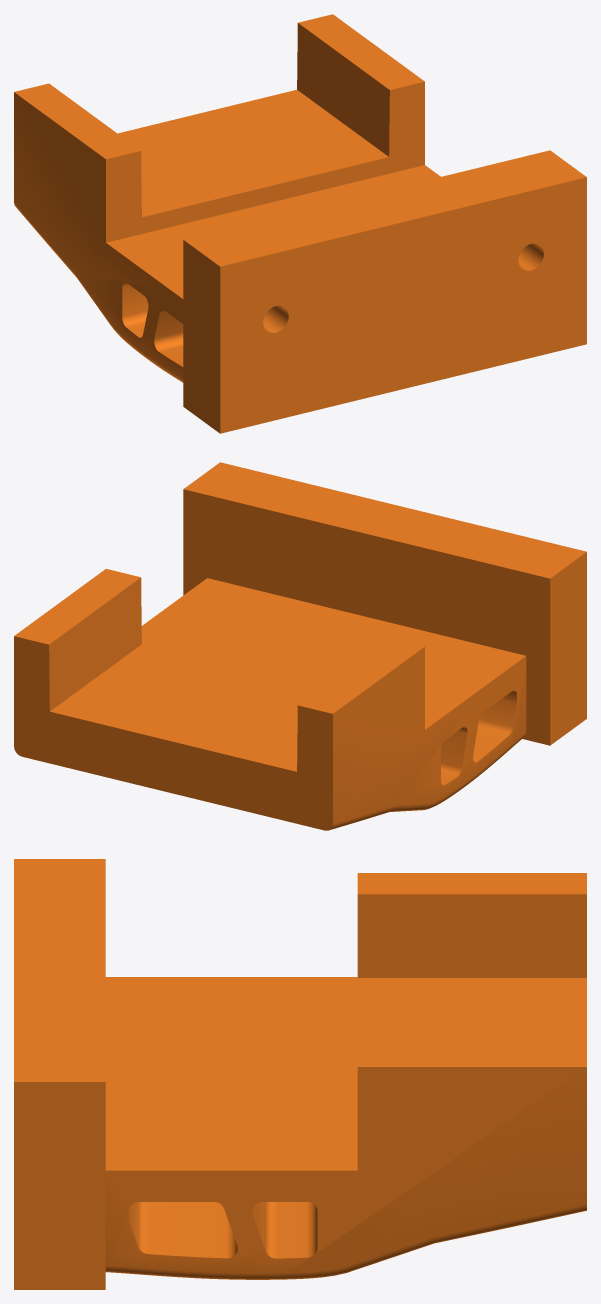
3 renders of one model, top to bottom at view 1: azimuth 30°, elevation 25°; view 2: azimuth 150°, elevation 25°; view 3: azimuth 270°, elevation 25°, orthographic. The views are drawn at different scales.
Visible parts, largest first — view 1: finger_right; view 2: finger_right; view 3: finger_right.
Boxes of the visible parts, <box> form: finger_right: <box>14,14,586,433</box>; finger_right: <box>14,462,586,830</box>; finger_right: <box>14,859,586,1289</box>.
Size of the model in its own units: 0.046 by 0.0209 by 0.05.
